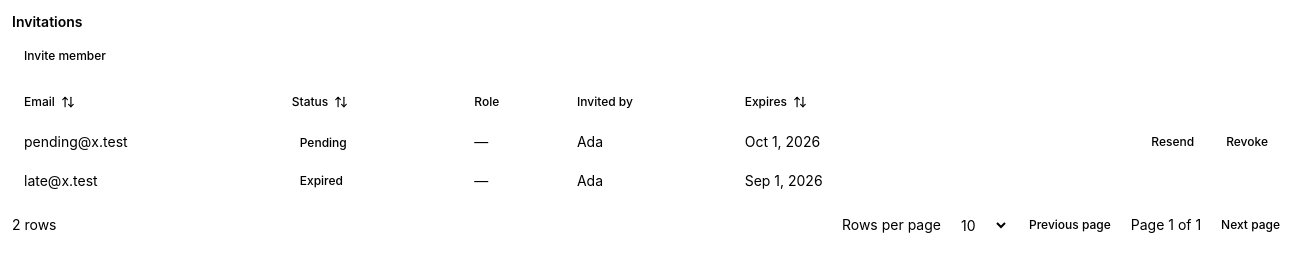
Test: Resend and revoke: refusals are named, a gone row reloads, a dropped connection shows (F-156) › resend refused with 403 says the action is not permitted, and does not reload
The image size is (1304, 278).
Expected: the text "pending@x.test" is shown, [12, 120, 280, 164]
Click the button "Resend": (1173, 142) [1139, 126, 1206, 158]
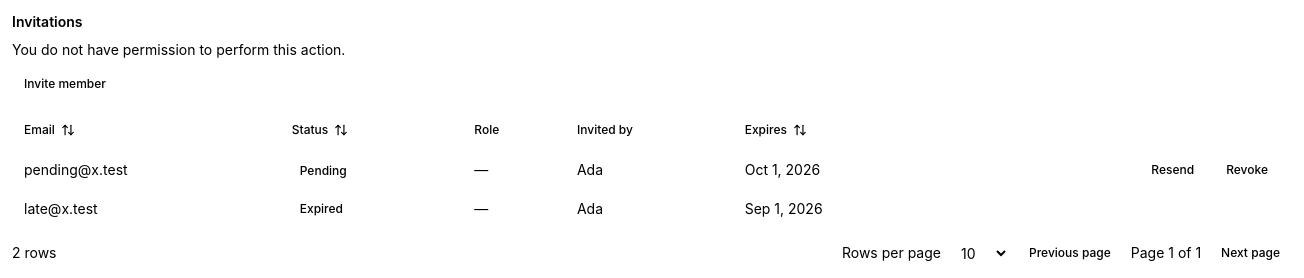
Expected: the message reads "You do not have permission to perform this action.", [12, 41, 345, 58]
